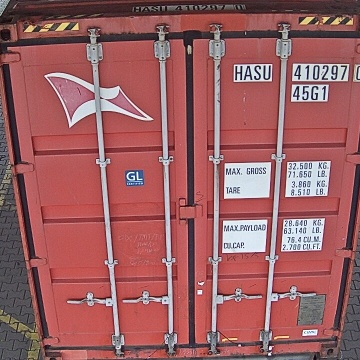serial_id: (234, 64, 360, 81)
